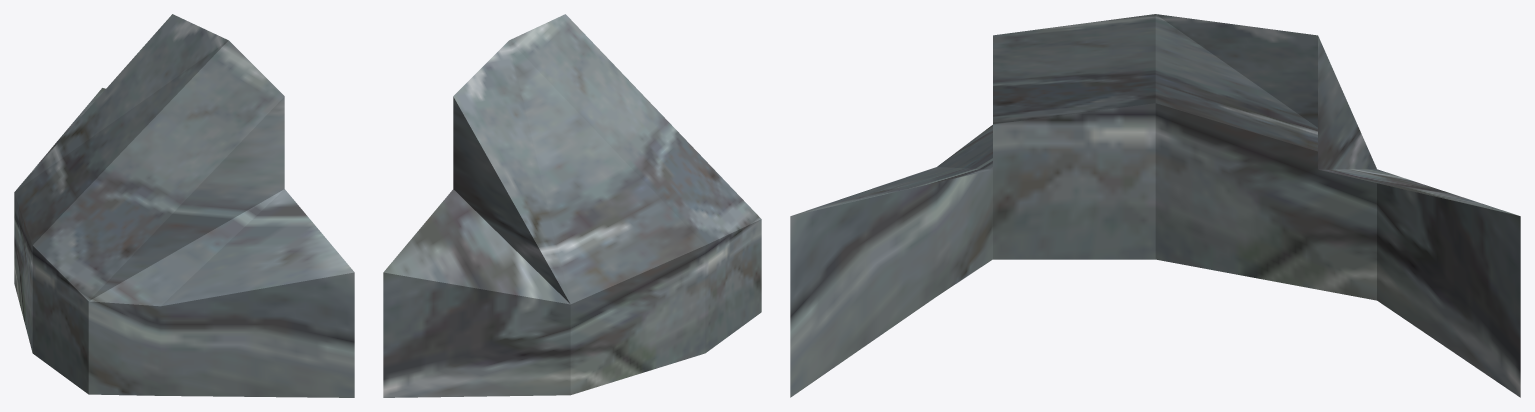
File: stemple_wall_transition_04.fbx
3 renders of one model, left to right at view 1: azimuth 30°, elevation 25°; view 2: azimuth 150°, elevation 25°; view 3: azimuth 270°, elevation 25°, orthographic. The views are drawn at different scales.
Parts seen in each view (by area): view 1: sunken_tileset/sunken_wall_straight03_mat; view 2: sunken_tileset/sunken_wall_straight03_mat; view 3: sunken_tileset/sunken_wall_straight03_mat.
Part boxes in pixels (x1=…): sunken_tileset/sunken_wall_straight03_mat: x1=14, y1=14, x2=354, y2=397; sunken_tileset/sunken_wall_straight03_mat: x1=383, y1=14, x2=761, y2=397; sunken_tileset/sunken_wall_straight03_mat: x1=790, y1=14, x2=1520, y2=397.
Bounding box in the file's own units: 0.3733 × 0.4826 × 0.8319.
